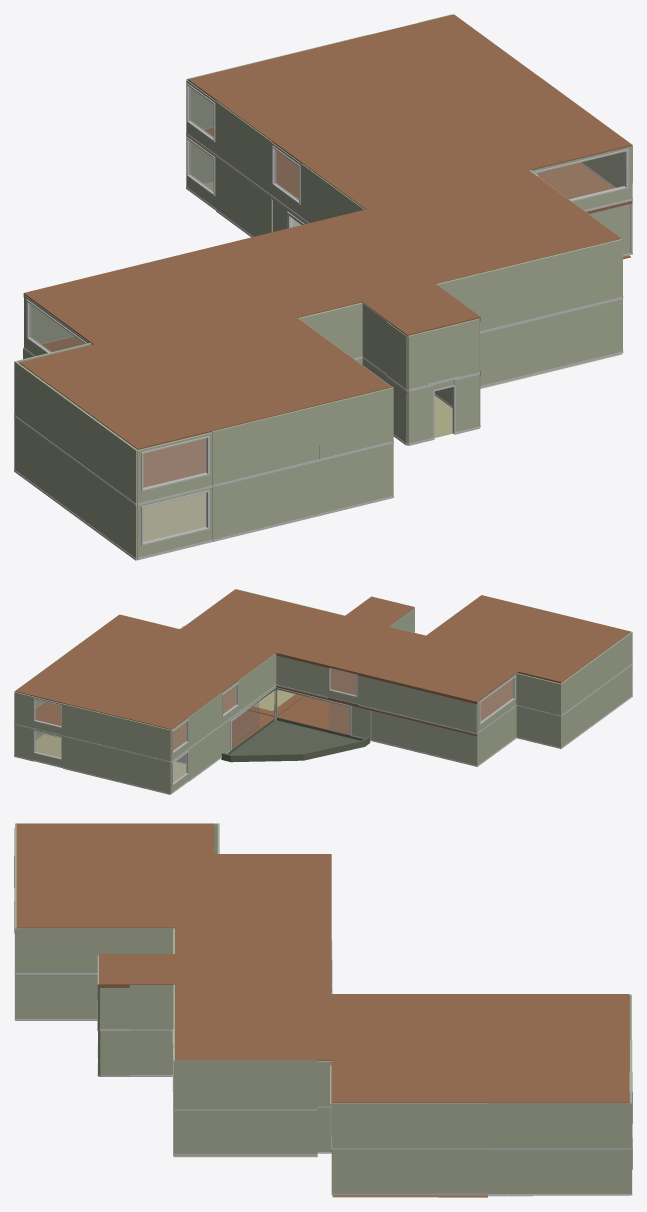
File: richHouse.fbx
3 renders of one model, top to bottom at view 1: azimuth 30°, elevation 25°; view 2: azimuth 150°, elevation 25°; view 3: azimuth 270°, elevation 25°, orthographic. The views are drawn at different scales.
Visible parts, largest first — view 1: Plane.009, Cube.057, Cube.033, Cube.050, Cube.046, Cube.055, Cube.038, Plane.008, Cube.080, Cube.047, Cube.082, Cube.049 (+23 smaller); view 2: Plane.009, Plane.001, Cube.063, Cube.020, Plane, Plane.008, Cube.050, Cube.056, Cube.046, Cube.034, Cube.005, Cube.079 (+21 smaller); view 3: Plane.009, Cube.008, Cube.069, Cube.061, Cube.026, Cube.062, Cube.022, Cube.052, Cube.042, Cube.058, Cube.031, Cube.029 (+3 smaller).
Boxes of the visible parts, x1,y1,x2,y2 form: Plane.009: (19,14,632,449); Cube.057: (473,239,622,333); Cube.033: (480,294,622,388); Cube.050: (14,361,137,505); Cube.046: (14,417,137,560); Cube.055: (282,388,392,470); Cube.038: (283,444,392,524); Plane.008: (41,127,632,487); Cube.080: (137,432,212,505); Cube.047: (137,487,212,559); Cube.082: (532,145,632,211); Cube.049: (212,414,282,487); Plane.009: (15,589,630,729); Plane.001: (221,717,370,762); Cube.063: (63,704,170,762); Cube.020: (63,737,170,794); Plane: (232,690,349,749); Plane.008: (35,669,512,750); Cube.050: (561,631,632,716); Cube.056: (358,675,437,724); Cube.046: (561,665,632,748); Cube.034: (371,710,435,756); Cube.005: (230,686,355,750); Cube.079: (276,655,327,698); Plane.009: (16,823,629,1103); Cube.008: (331,1149,487,1195); Cube.069: (331,1103,488,1149); Cube.061: (174,1060,317,1110); Cube.026: (174,1106,317,1156); Cube.062: (487,1103,630,1149); Cube.022: (487,1150,630,1195); Cube.052: (15,928,172,974); Cube.042: (15,975,97,1020); Cube.058: (129,985,173,1030); Cube.031: (130,1031,173,1076); Cube.029: (97,1031,131,1076).
Size of the model in its own units: 422 by 67.96 by 393.
